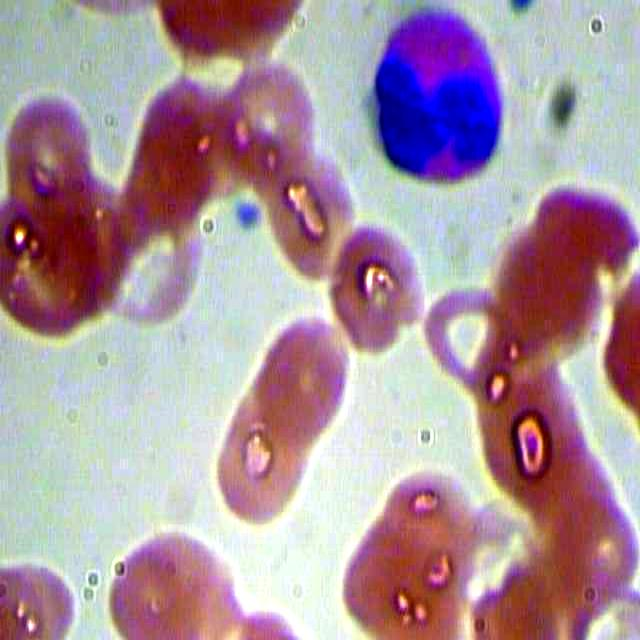Platelets: (230, 195, 267, 236)
RBC: (100, 524, 247, 640), (208, 371, 312, 533), (247, 310, 351, 450), (325, 218, 429, 358), (257, 140, 361, 280), (1, 80, 104, 220)
WBC: (354, 5, 513, 204)
